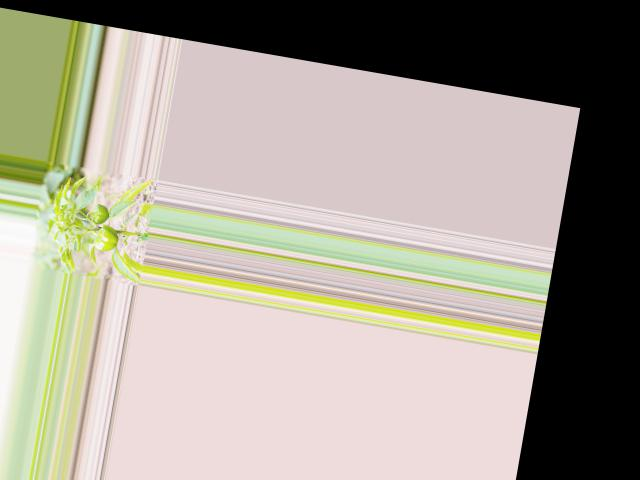bell_pepper: (88, 202, 112, 226)
